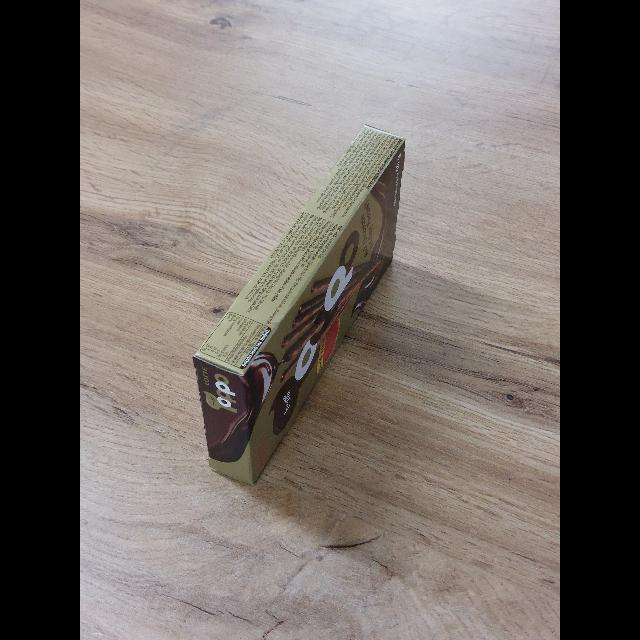banh_toppo_socola: (193, 127, 406, 488)
